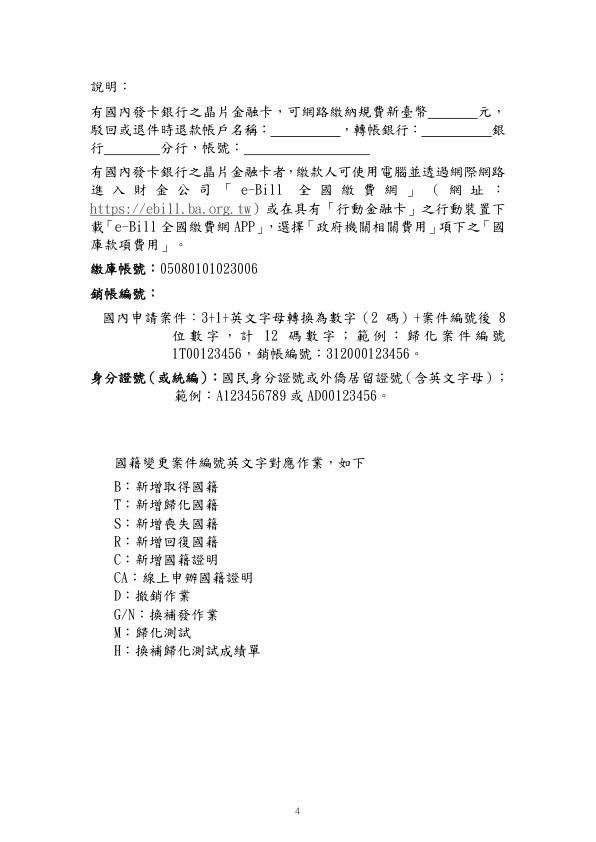input: (245, 142, 371, 158), (421, 124, 490, 141), (271, 123, 340, 140), (104, 140, 159, 158), (428, 102, 476, 121)
text: (103, 451, 366, 657), (90, 163, 509, 253), (85, 282, 515, 362), (87, 369, 509, 407), (89, 104, 427, 118), (88, 256, 262, 279), (89, 120, 266, 138), (344, 120, 417, 140), (160, 140, 240, 156), (87, 75, 135, 97), (478, 104, 504, 118), (492, 122, 509, 137), (89, 140, 103, 156)
